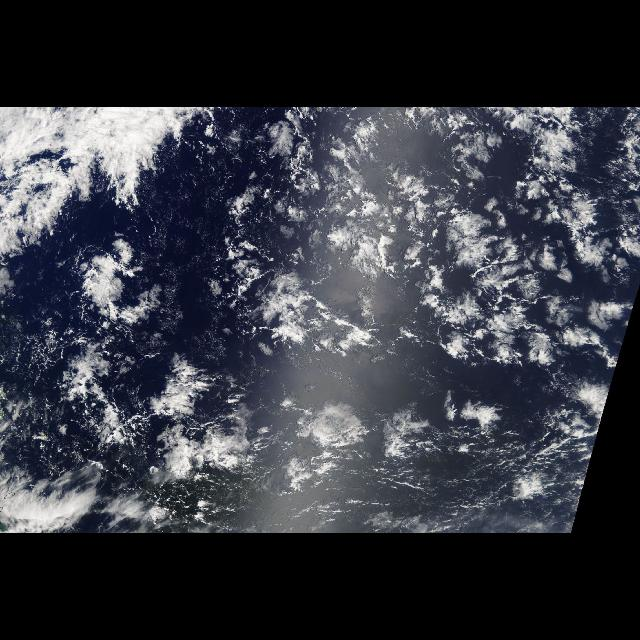Flower: (58, 109, 640, 533)
Sugar: (344, 458, 506, 532)
